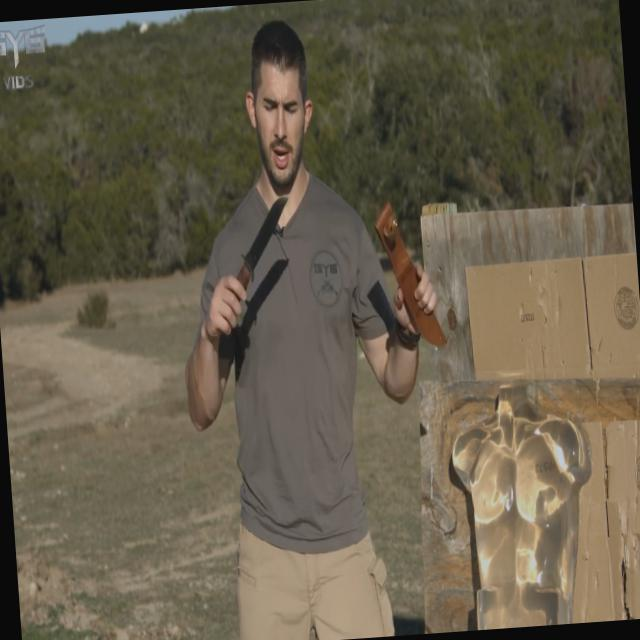knife: (202, 179, 302, 331)
